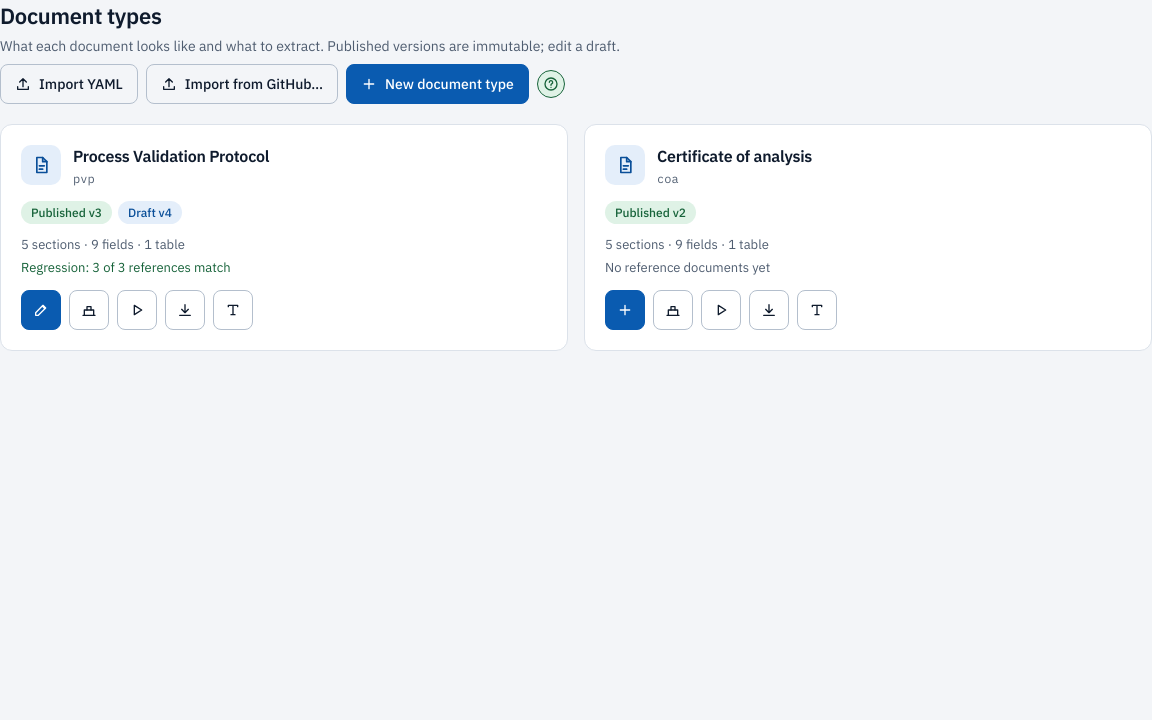
Test: TemplatesPage Rename… › says a published-only type gets a new draft, and names it after the rename
The image size is (1152, 720).
Click the button named "Rename Certificate of analysis…": [817, 310] box [797, 290, 837, 330]
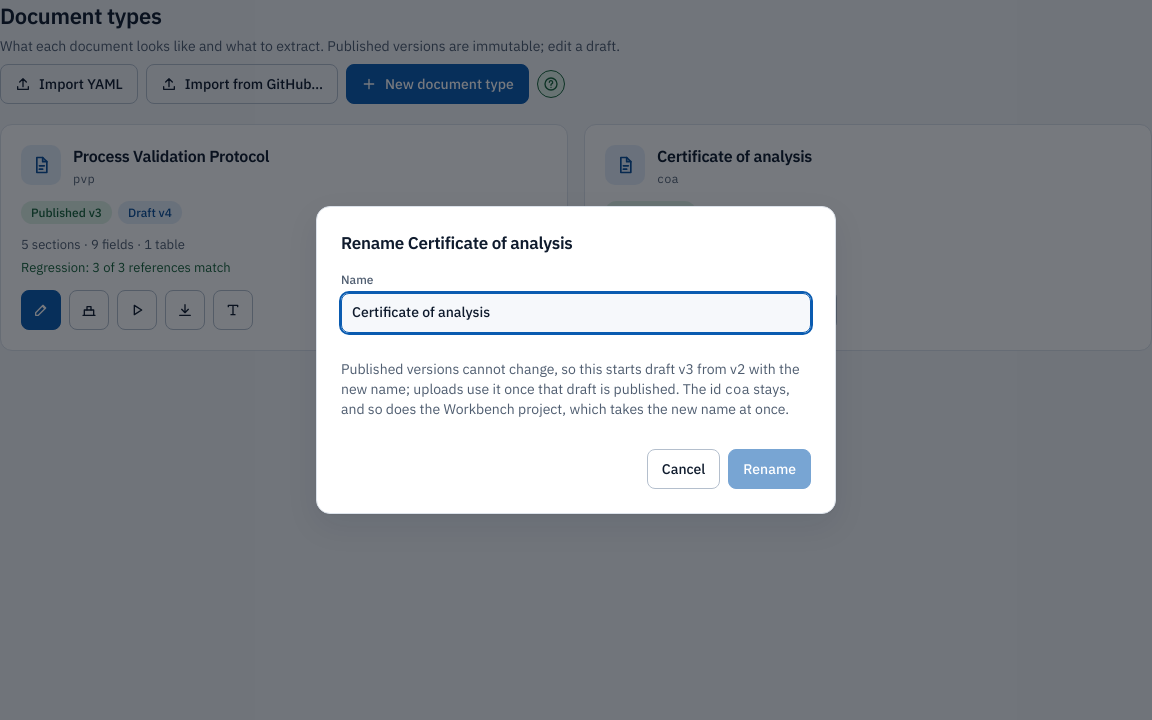
expect the dialog "Rename Certificate of analysis" shows "starts draft v3 from v2": met, box [341, 360, 800, 398]
Replace the text in the field labelled "Name" with "Certificate": [576, 313] box [341, 293, 811, 333]
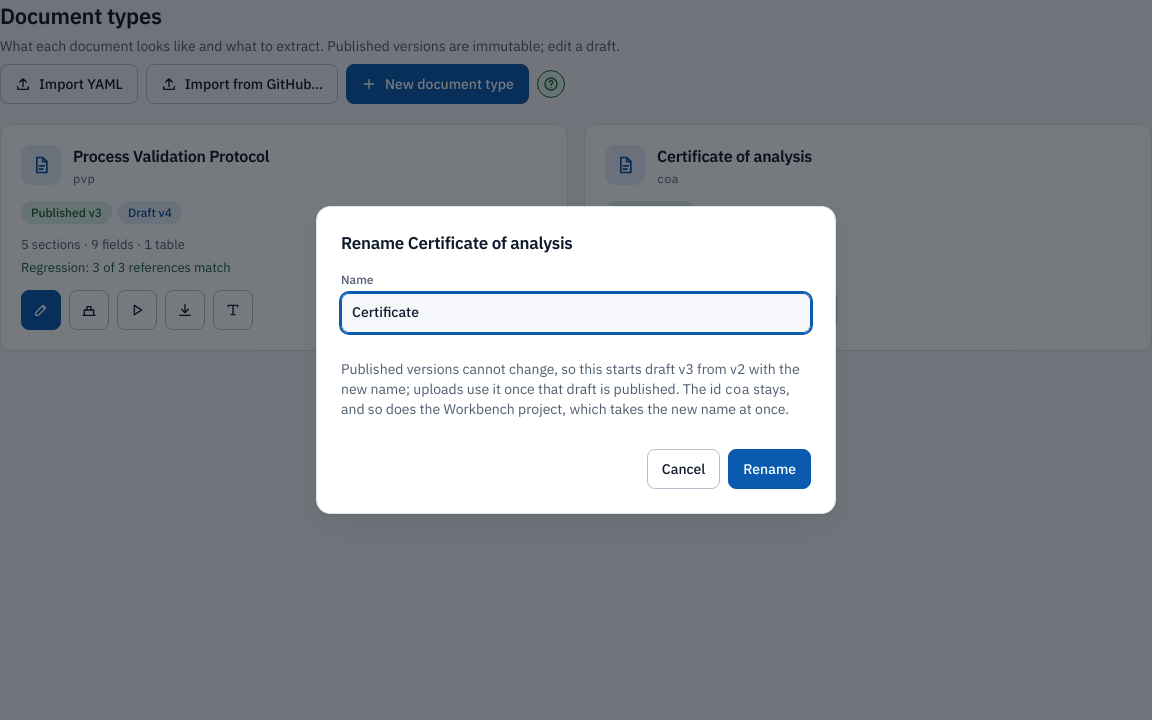
Click the button "Rename": [770, 470] box [728, 450, 811, 490]
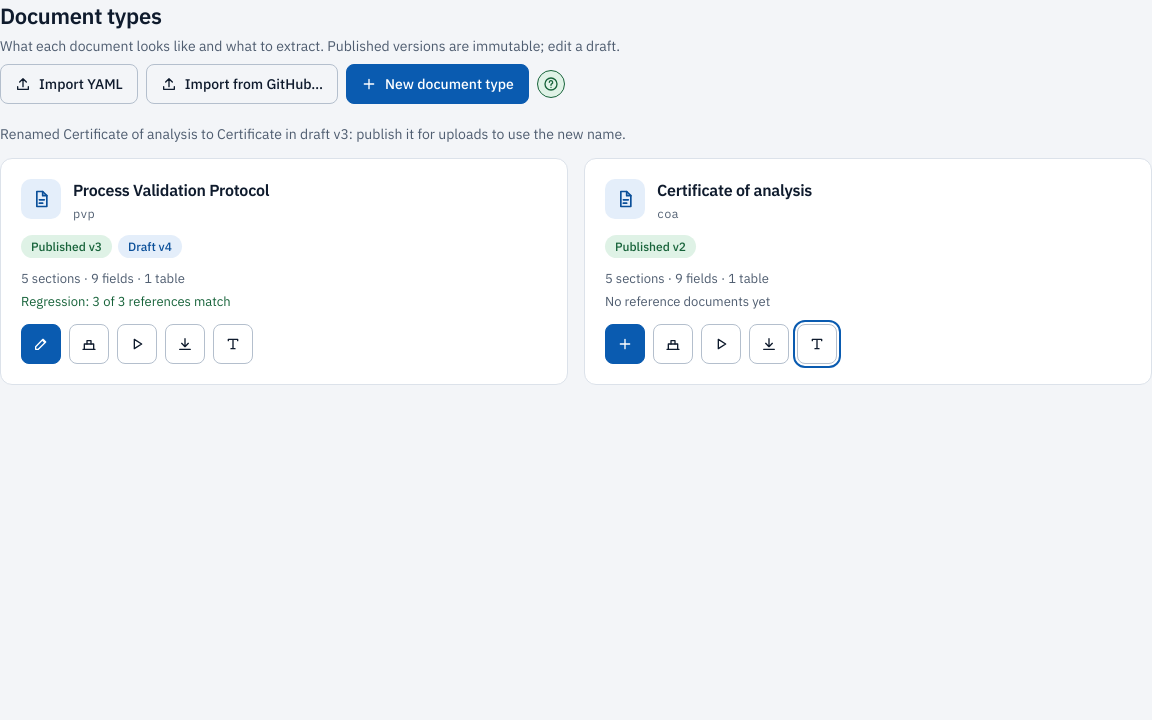
expect the message shows "Renamed Certificate of analysis to Certificate in draft v3: publish it for uploads to use the new name.": met, box [0, 125, 626, 143]
